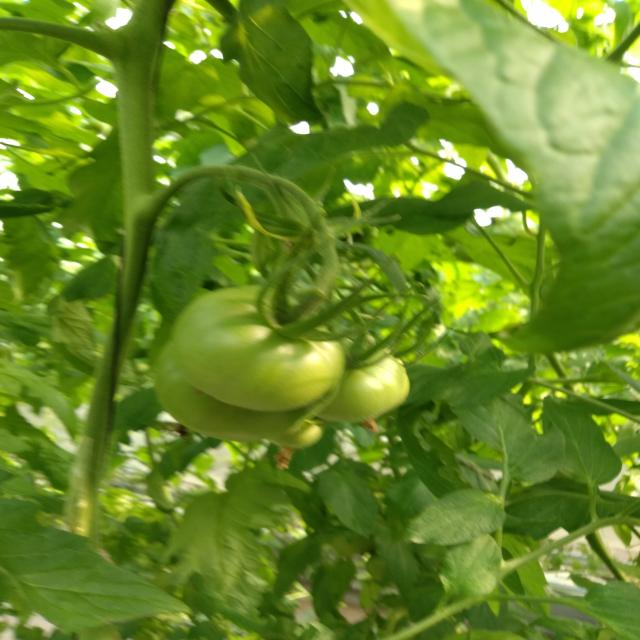yesil: (143, 215, 435, 483)
